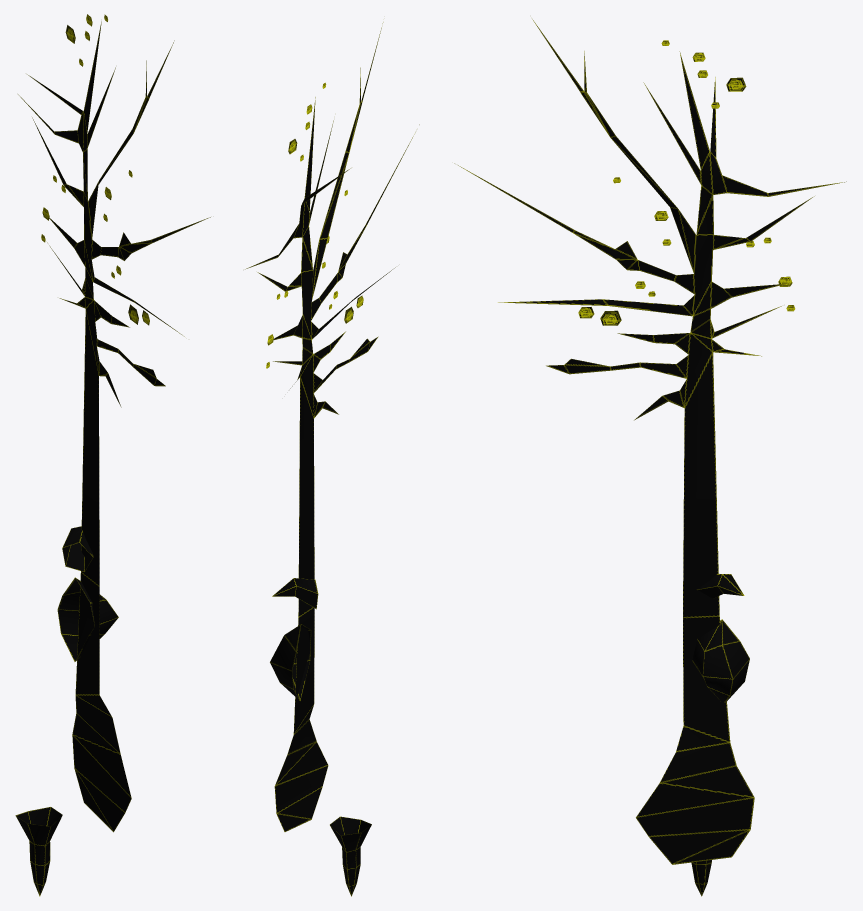
The model's file is tree_1.fbx.
3 views of the same model, side by side, from view 1: azimuth 30°, elevation 25°; view 2: azimuth 150°, elevation 25°; view 3: azimuth 270°, elevation 25° (orthographic). The views are drawn at different scales.
Visible parts, largest first — view 1: polymsh1; view 2: polymsh1; view 3: polymsh1.
Boxes of the visible parts, left/top/right/bottom form: polymsh1: left=15, top=14, right=210, bottom=896; polymsh1: left=245, top=22, right=419, bottom=896; polymsh1: left=454, top=19, right=846, bottom=896.
Size of the model in its own units: 1.29 by 11.48 by 4.57.
